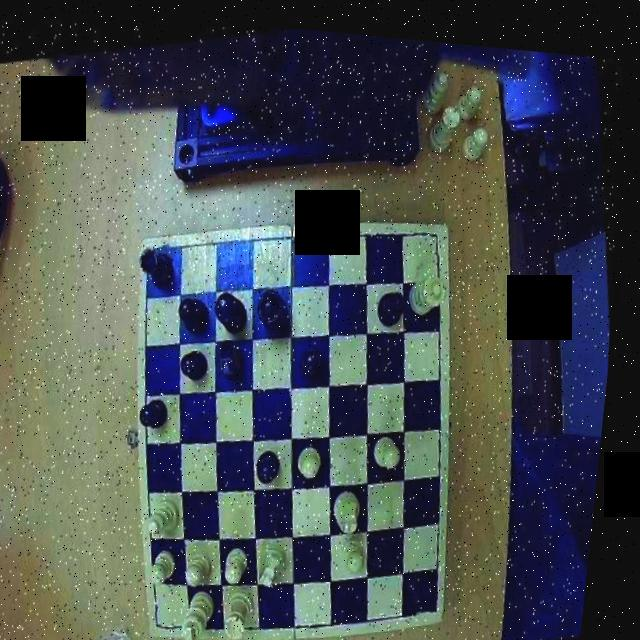chess-table-corners: (416, 214, 454, 252), (142, 233, 180, 271), (426, 578, 460, 614), (160, 602, 190, 634)
